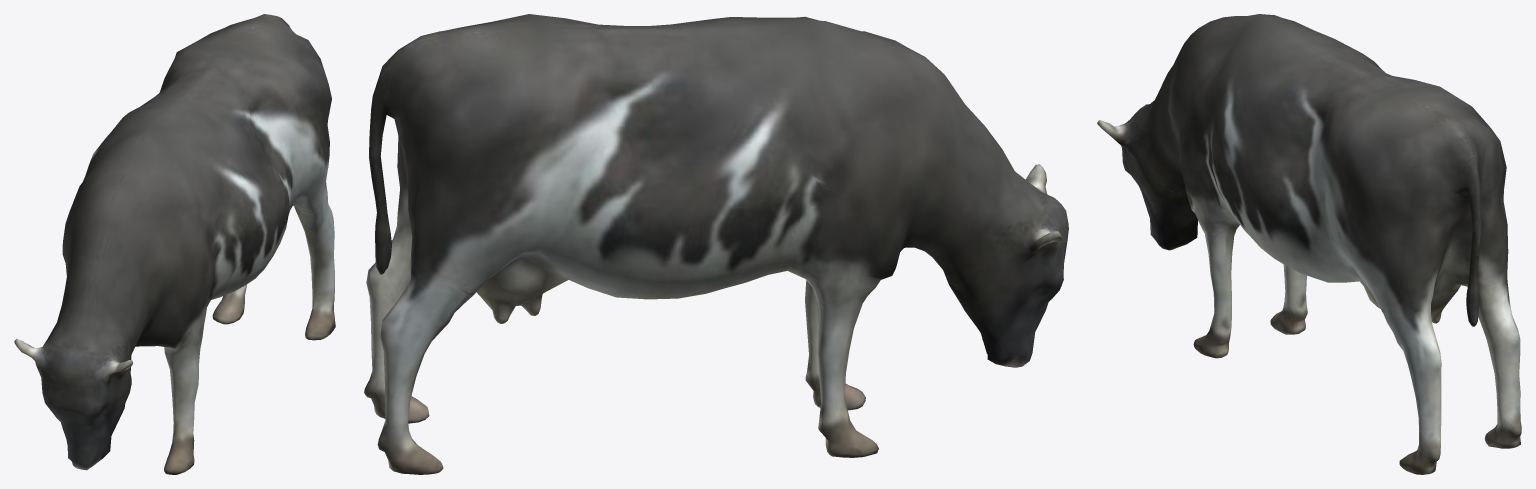
Rendered from Cattle1.glb.
3 renders of one model, left to right at view 1: azimuth 30°, elevation 25°; view 2: azimuth 150°, elevation 25°; view 3: azimuth 270°, elevation 25°, orthographic. The views are drawn at different scales.
Parts seen in each view (by area): view 1: Mesh1_001.001; view 2: Mesh1_001.001; view 3: Mesh1_001.001.
Part boxes in pixels (box(x1,y1,x2,y2)): Mesh1_001.001: box(14, 14, 335, 474); Mesh1_001.001: box(364, 14, 1068, 474); Mesh1_001.001: box(1097, 14, 1521, 474).
Size of the model in its own units: 4.08 by 2.93 by 3.34.
Materials: 1 (1 with a texture image).
